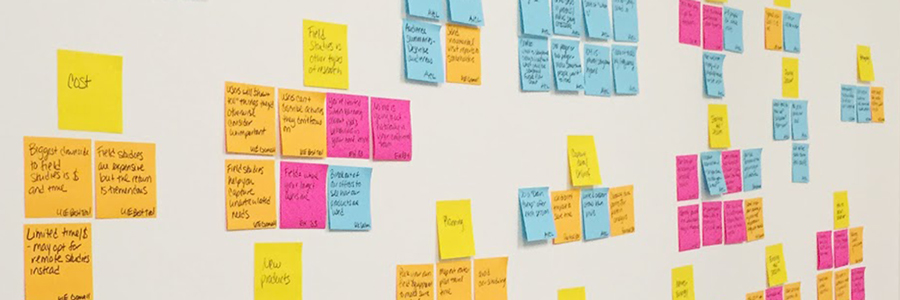stickynote: (20, 220, 97, 300), (56, 45, 125, 134), (19, 133, 91, 218), (94, 142, 158, 220), (222, 75, 278, 159), (219, 154, 279, 230), (298, 17, 354, 90), (328, 160, 376, 240), (276, 84, 327, 159), (279, 160, 328, 230), (369, 93, 418, 163), (254, 240, 309, 300), (431, 194, 474, 259), (330, 92, 371, 160), (400, 21, 444, 83), (561, 132, 604, 190), (516, 187, 559, 245), (444, 27, 486, 84), (431, 256, 474, 300), (613, 43, 648, 96), (517, 38, 550, 94), (583, 42, 615, 99), (474, 253, 512, 300), (551, 187, 582, 244), (674, 147, 703, 206), (553, 39, 584, 93), (608, 181, 637, 235), (582, 186, 608, 244), (398, 260, 435, 300), (517, 1, 553, 42), (610, 1, 645, 42), (706, 100, 732, 153), (739, 144, 766, 195), (699, 198, 725, 249), (720, 3, 746, 53), (722, 197, 748, 247), (759, 5, 784, 56), (676, 204, 702, 253), (700, 149, 725, 199), (704, 46, 726, 102), (721, 146, 743, 202), (677, 1, 702, 50), (580, 1, 609, 42), (698, 6, 722, 54), (744, 194, 766, 245), (787, 141, 813, 184), (668, 260, 695, 300), (552, 1, 579, 40), (777, 55, 800, 99), (811, 226, 833, 272), (830, 187, 852, 232), (782, 8, 803, 54), (789, 96, 810, 141), (766, 240, 785, 288), (452, 1, 486, 27), (854, 43, 874, 85), (847, 223, 866, 267), (847, 263, 869, 300), (404, 1, 445, 20), (773, 99, 790, 142), (856, 83, 873, 126), (838, 75, 853, 123), (871, 84, 887, 128), (834, 264, 849, 300), (833, 229, 847, 267), (816, 271, 834, 300)
